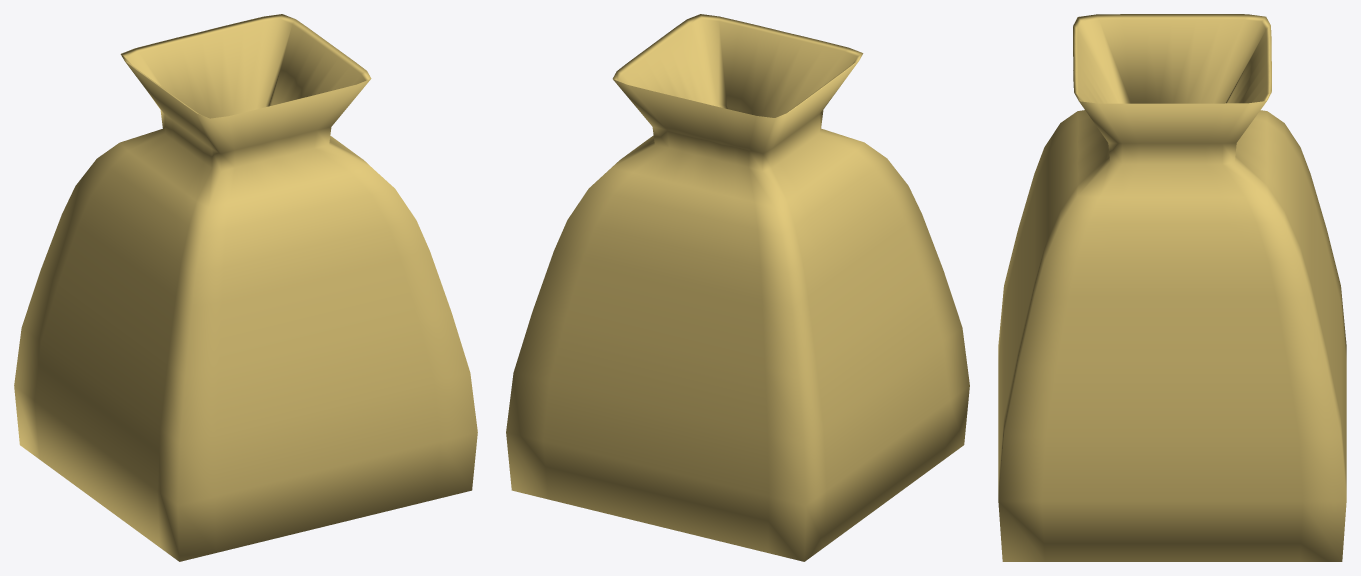
The model's file is XXX.fbx.
3 renders of one model, left to right at view 1: azimuth 30°, elevation 25°; view 2: azimuth 150°, elevation 25°; view 3: azimuth 270°, elevation 25°, orthographic. The views are drawn at different scales.
Parts seen in each view (by area): view 1: XXX; view 2: XXX; view 3: XXX.
Part boxes in pixels (<box>): XXX: <box>14,14,477,561</box>; XXX: <box>506,14,969,561</box>; XXX: <box>998,14,1346,561</box>.
Size of the model in its own units: 0.9143 by 1.17 by 0.864.
